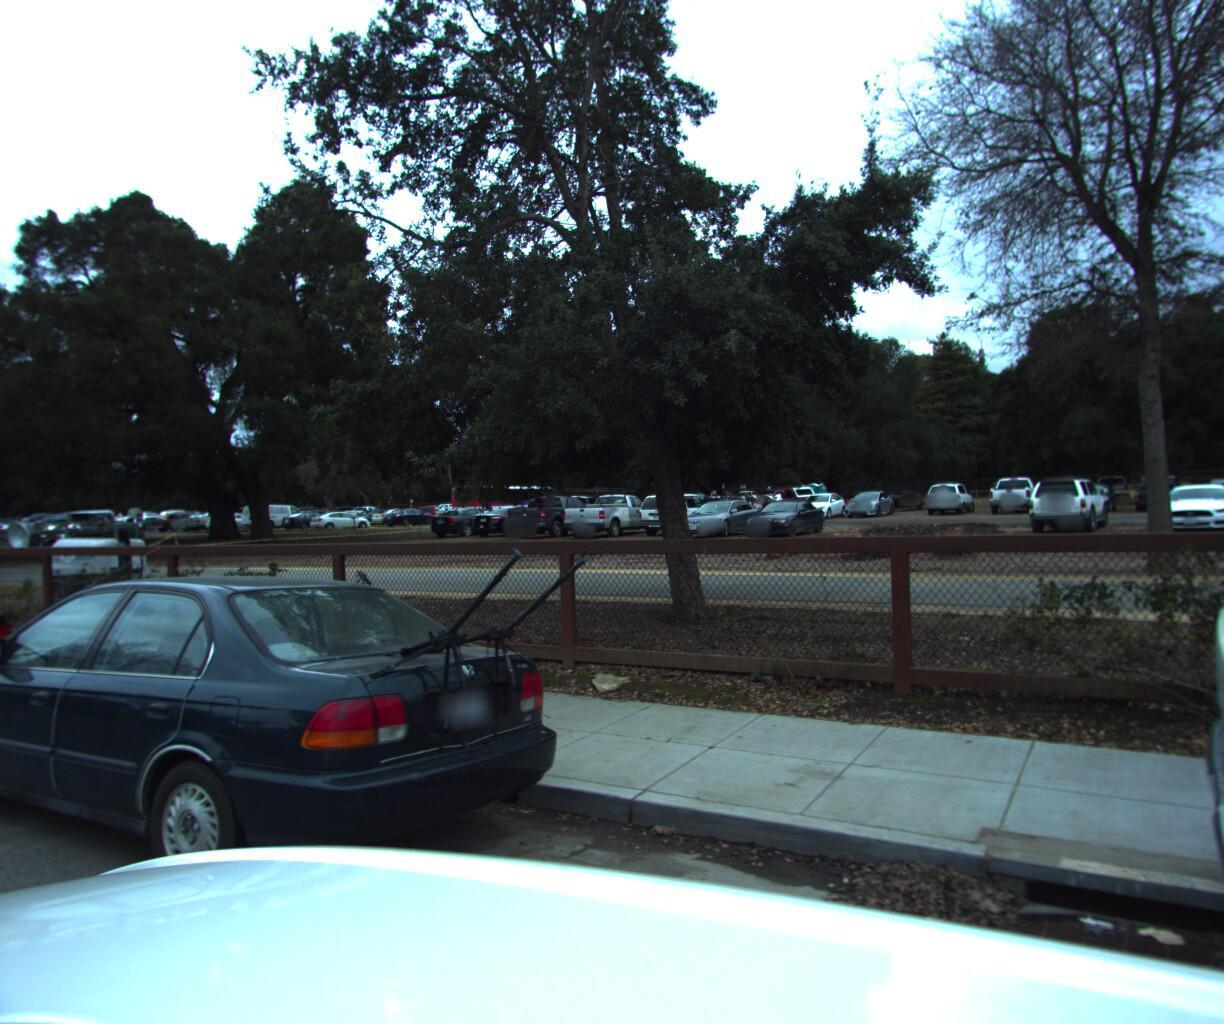car: (0, 555, 579, 993), (0, 551, 38, 772)
